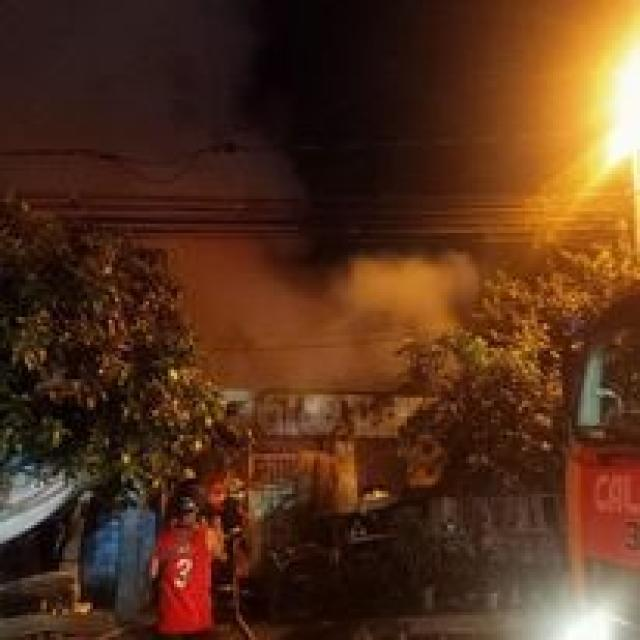Smoke: (173, 212, 478, 396)
